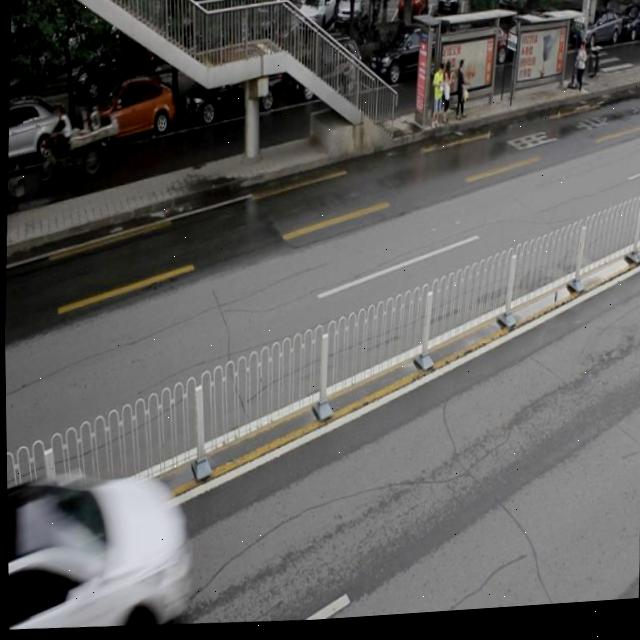car: (6, 463, 190, 635), (81, 73, 176, 152), (184, 53, 279, 128), (368, 25, 447, 94), (288, 39, 363, 109), (7, 94, 67, 168)
